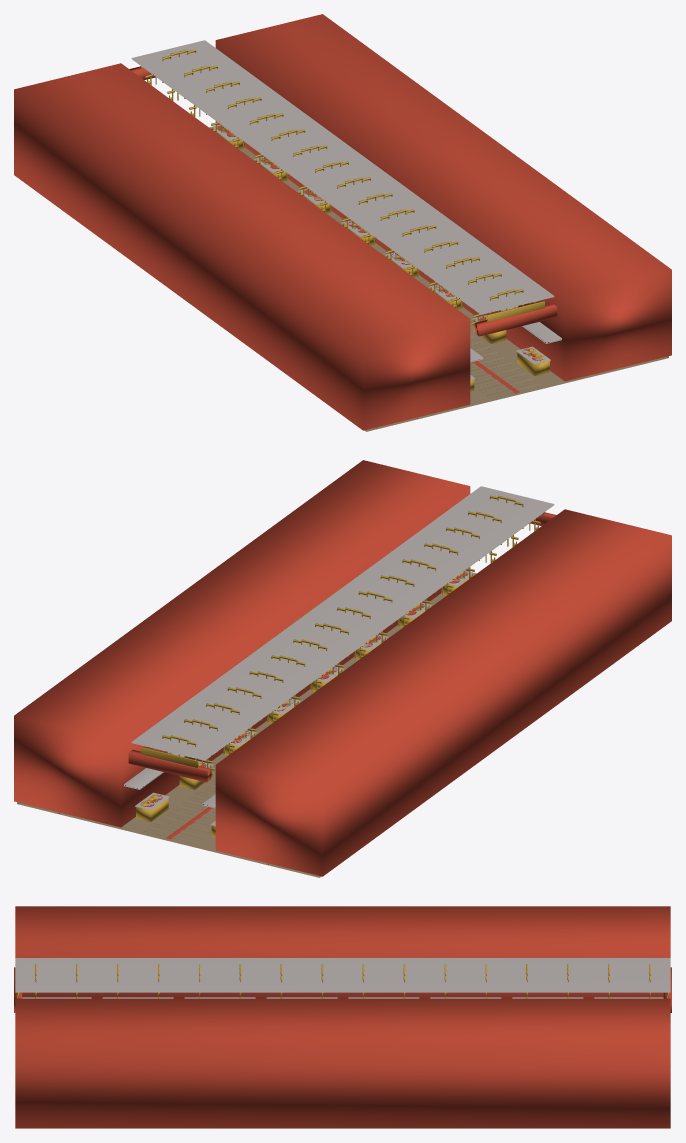
3 renders of one model, top to bottom at view 1: azimuth 30°, elevation 25°; view 2: azimuth 150°, elevation 25°; view 3: azimuth 270°, elevation 25°, orthographic. The views are drawn at different scales.
Parts seen in each view (by area): view 1: tongin_lunchbox_cafe_and_facades, tongin_arcade_truss_and_gates, tongin_market_alley_floor, tongin_merchant_counters; view 2: tongin_lunchbox_cafe_and_facades, tongin_arcade_truss_and_gates, tongin_market_alley_floor, tongin_merchant_counters; view 3: tongin_lunchbox_cafe_and_facades, tongin_arcade_truss_and_gates, tongin_market_alley_floor.
Boxes of the visible parts, x1=… form: tongin_lunchbox_cafe_and_facades: x1=14, y1=14, x2=671, y2=430; tongin_arcade_truss_and_gates: x1=129, y1=40, x2=557, y2=336; tongin_market_alley_floor: x1=209, y1=127, x2=668, y2=431; tongin_merchant_counters: x1=210, y1=124, x2=550, y2=391; tongin_lunchbox_cafe_and_facades: x1=14, y1=460, x2=671, y2=876; tongin_arcade_truss_and_gates: x1=128, y1=486, x2=556, y2=782; tongin_market_alley_floor: x1=17, y1=573, x2=476, y2=877; tongin_merchant_counters: x1=135, y1=570, x2=475, y2=837; tongin_lunchbox_cafe_and_facades: x1=15, y1=906, x2=670, y2=1128; tongin_arcade_truss_and_gates: x1=14, y1=958, x2=671, y2=1012; tongin_market_alley_floor: x1=15, y1=1128, x2=670, y2=1128.
Size of the model in its own units: 24.5 by 7.23 by 48.2.
5 materials, 5 textured.
